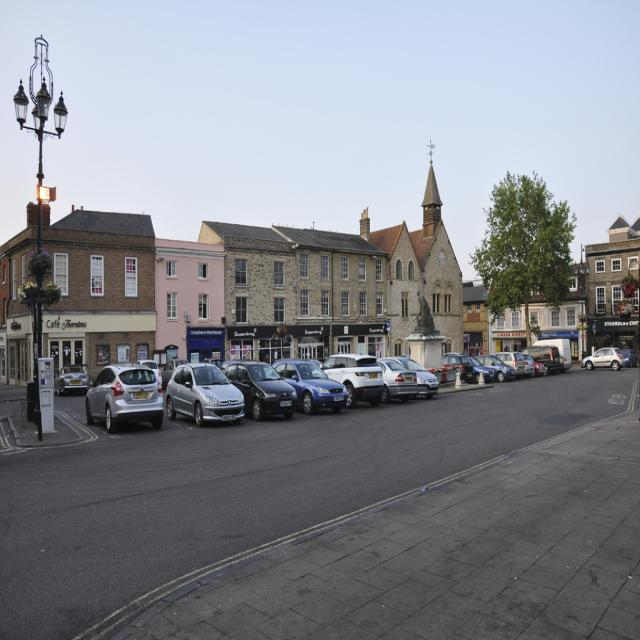car: (579, 347, 624, 371)
